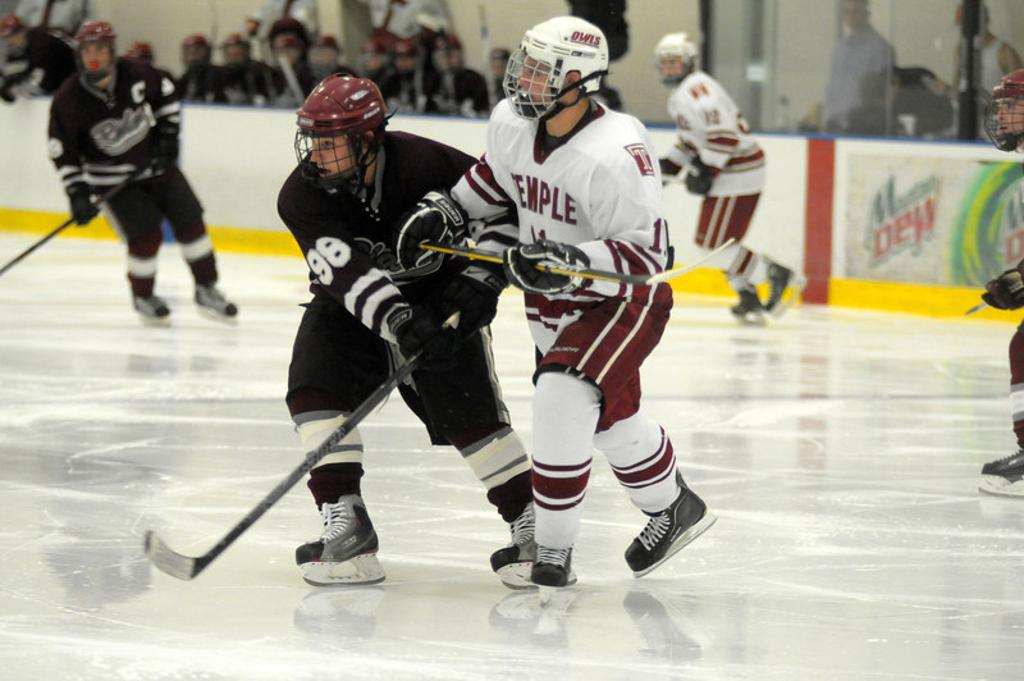face: (310, 127, 361, 185), (517, 58, 565, 108), (995, 99, 1024, 139), (82, 43, 112, 72), (274, 40, 299, 65), (956, 11, 981, 36), (363, 45, 386, 71), (843, 6, 867, 28), (395, 47, 415, 72), (661, 58, 683, 80), (310, 49, 331, 70), (492, 58, 510, 78), (225, 45, 245, 62), (434, 48, 448, 71), (7, 28, 23, 48), (187, 45, 205, 61), (446, 48, 460, 68), (126, 46, 141, 62), (248, 21, 258, 35)
